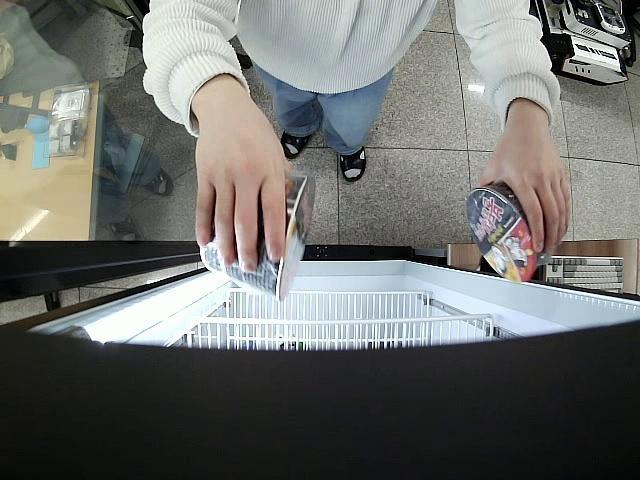07_buldak_L: (200, 168, 319, 303), (462, 183, 542, 286)
